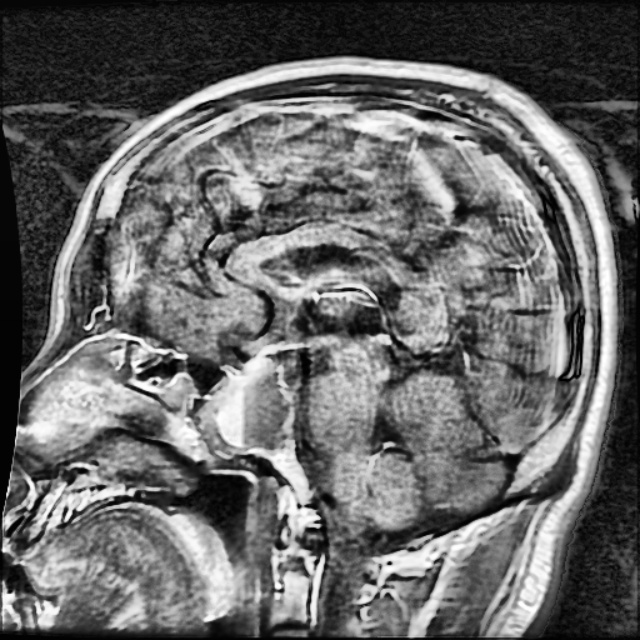Pituitary: (207, 344, 298, 455)
